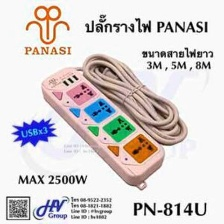three_eye_plug: (38, 63, 167, 188)
